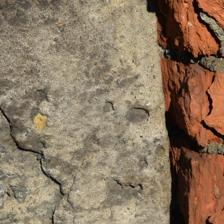Crack: (0, 62, 91, 161), (0, 53, 51, 121), (0, 55, 61, 85)
